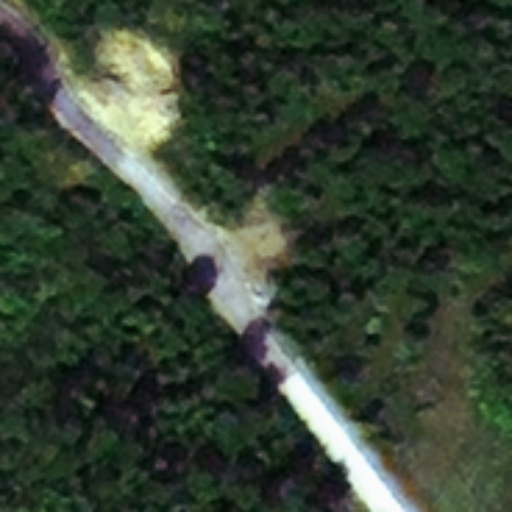landslide: (72, 25, 182, 154), (230, 199, 289, 299)
